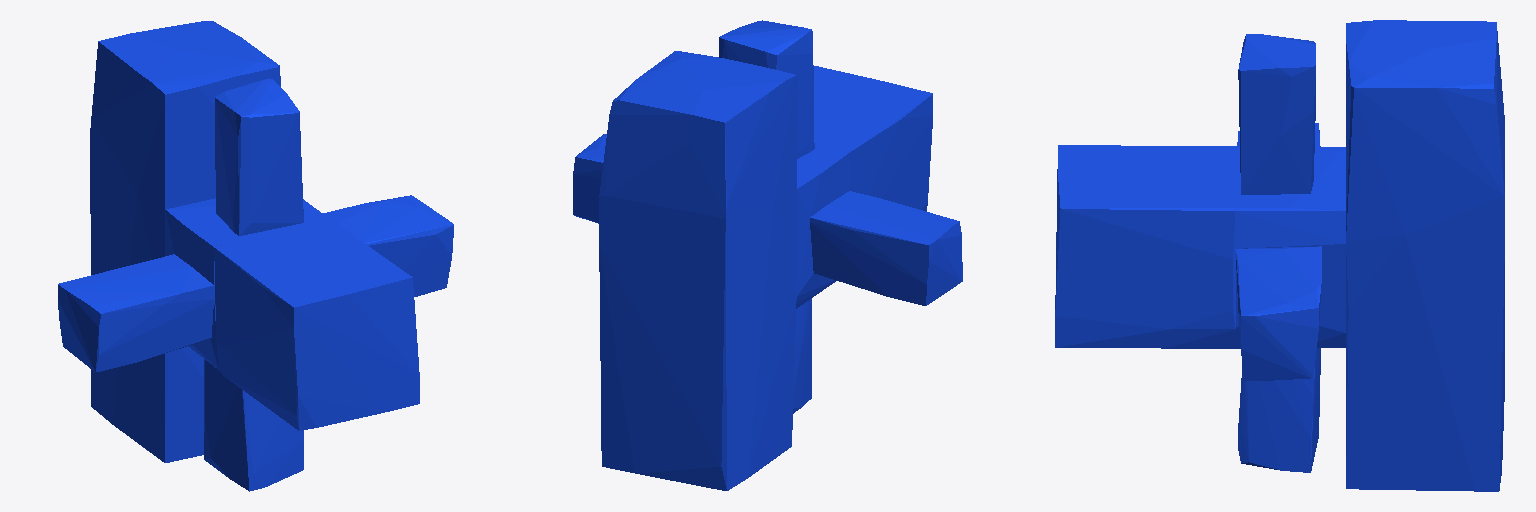
The robot description file, URDF, robot "blob918":
<robot name="blob918">
  <link name="random_obj_918">
    <contact>
      <lateral_friction value="1.0"/>
      <rolling_friction value="0.0"/>
      <inertia_scaling value="3.0"/>
      <contact_cfm value="0.0"/>
      <contact_erp value="1.0"/>
    </contact>
    <inertial>
      <origin rpy="0 0 0" xyz="0 0 0"/>
      <mass value="0.1"/>
      <inertia ixx="1" ixy="0" ixz="0" iyy="1" iyz="0" izz="0"/>
    </inertial>
    <visual>
      <origin rpy="0 0 0" xyz="0 0 0"/>
      <geometry>
        <mesh filename="918.obj" scale="0.015 0.015 0.015"/>
      </geometry>
      <material name="blockmat">
        <color rgba="0.15 0.37 0.96 1"/>
      </material>
    </visual>
    <collision>
      <origin rpy="0 0 0" xyz="0 0 0"/>
      <geometry>
        <mesh filename="918.obj" scale="0.015 0.015 0.015"/>
      </geometry>
    </collision>
  </link>
</robot>

--- Facts derived from the render (not from the file) ---
The picture shows the robot from 3 angles, left to right: view 1: azimuth 30°, elevation 25°; view 2: azimuth 150°, elevation 25°; view 3: azimuth 270°, elevation 25°; orthographic projection.
Model blob918 with 1 links and 0 joints (none), rooted at random_obj_918, posed all joints at 0.
Links seen in each view (by area): view 1: random_obj_918; view 2: random_obj_918; view 3: random_obj_918.
Boxes of the visible links, x1=… form: random_obj_918: x1=58, y1=21, x2=453, y2=491; random_obj_918: x1=573, y1=20, x2=962, y2=490; random_obj_918: x1=1055, y1=20, x2=1504, y2=491.
Size in the robot's own frame: 0.0932 by 0.0926 by 0.0926 metres.
Meshes: 1 distinct files referenced, 1 mesh visuals loaded (1 OBJ).